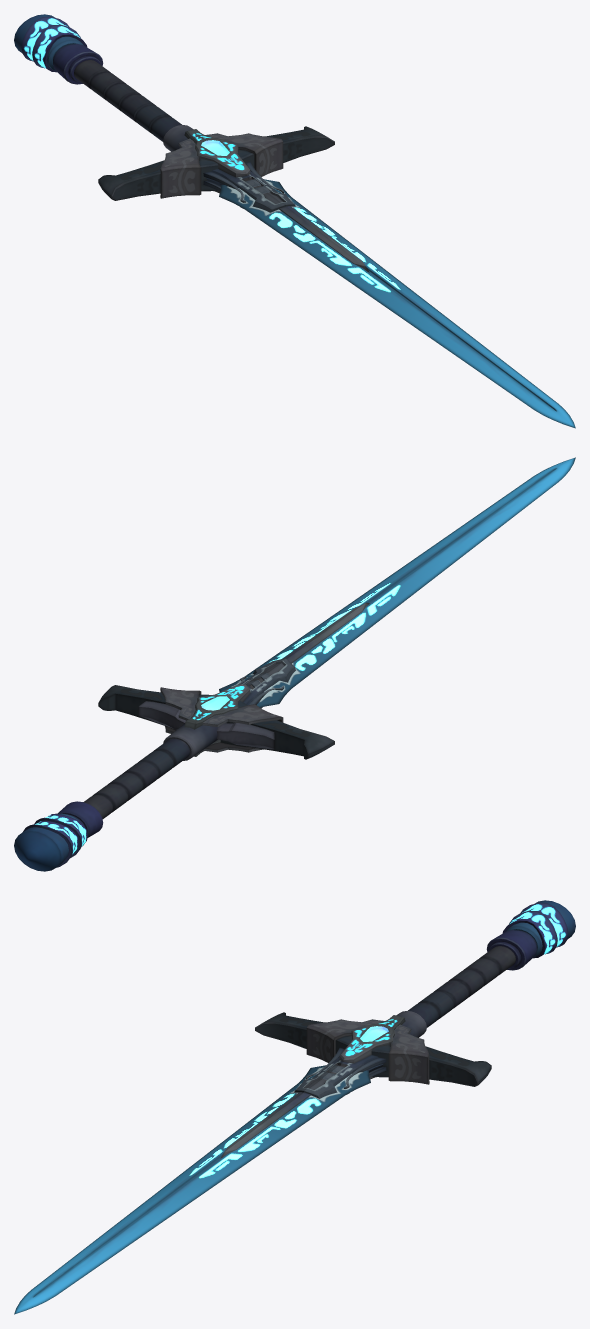
The model's file is fantasy_greatsword.glb.
3 renders of one model, top to bottom at view 1: azimuth 30°, elevation 25°; view 2: azimuth 150°, elevation 25°; view 3: azimuth 330°, elevation 25°, orthographic.
Parts seen in each view (by area): view 1: Azure Core Blade; view 2: Azure Core Blade; view 3: Azure Core Blade.
Boxes of the visible parts, x1=… form: Azure Core Blade: x1=14, y1=14, x2=575, y2=428; Azure Core Blade: x1=14, y1=457, x2=575, y2=871; Azure Core Blade: x1=14, y1=900, x2=575, y2=1314.
Size of the model in its own units: 3.58 by 0.6497 by 15.18.
1 material, 1 textured.
